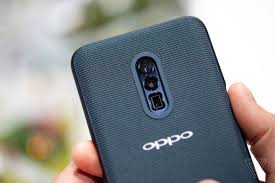oppo: (67, 14, 258, 183)
